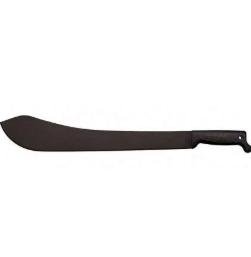MACHETTE: (0, 105, 251, 192)
